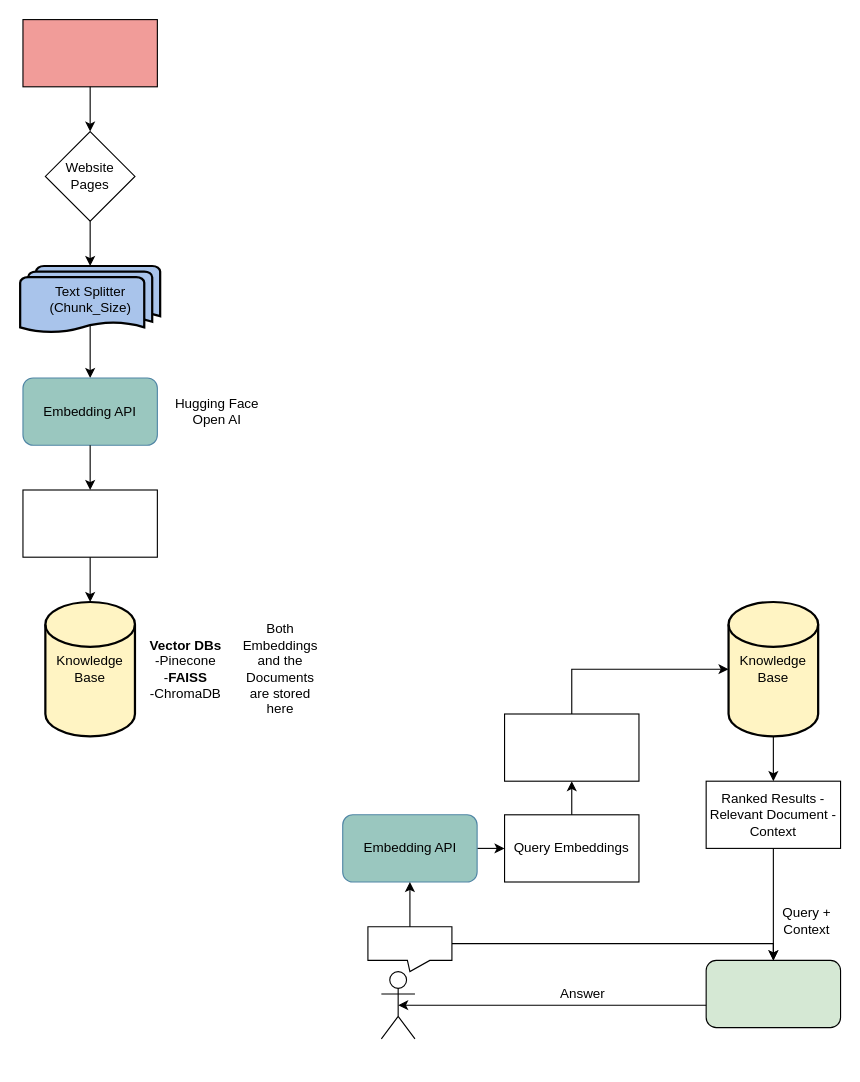
The diagram is 860 pixels wide and 1082 high, and some of its shapes have lost their labels. The centre of each missing label's shape, as x and y in pixels:
"LLM (QnA Model)" goes at (x=773, y=993).
"Query" goes at (x=409, y=949).
"Semantic Search" goes at (x=571, y=747).
"Store Embeddings - Semantic Index" goes at (x=89, y=523).
"Website" goes at (x=89, y=52).
